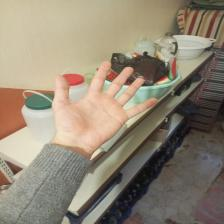five: (46, 60, 162, 150)
